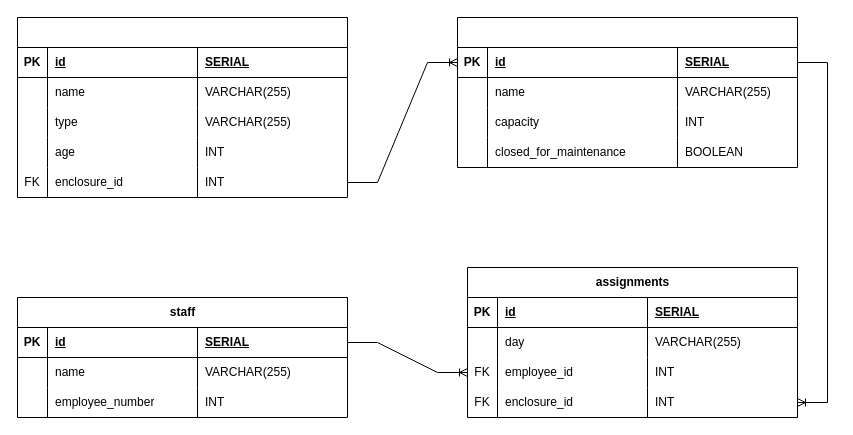
The diagram is 853 pixels wide and 435 high, and some of its shapes have lost their labels. Each missing label, with the box of its shape:
animals: (16, 16, 348, 198)
enclosures: (456, 16, 798, 168)
